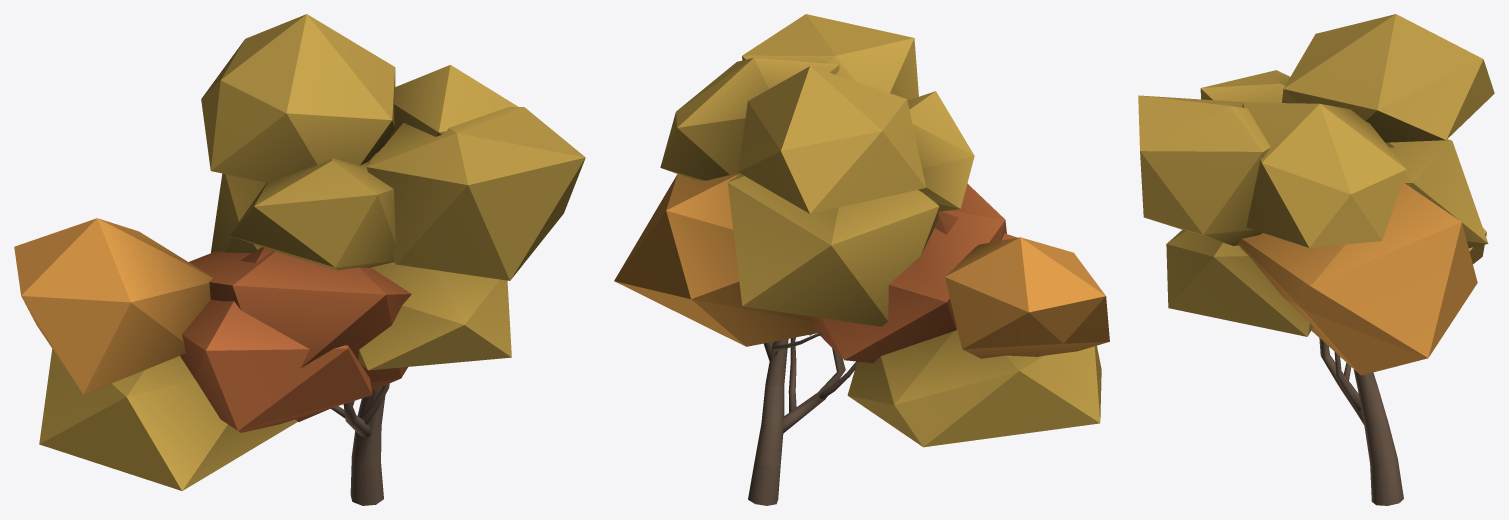
The model's file is obj_deco_matorral.glb.
The picture shows the model from 3 angles, left to right: view 1: azimuth 30°, elevation 25°; view 2: azimuth 150°, elevation 25°; view 3: azimuth 270°, elevation 25°; orthographic projection. The views are drawn at different scales.
Parts seen in each view (by area): view 1: propforge-libre-deco_matorral; view 2: propforge-libre-deco_matorral; view 3: propforge-libre-deco_matorral.
Boxes of the visible parts, <box> form: propforge-libre-deco_matorral: <box>14,14,585,505</box>; propforge-libre-deco_matorral: <box>614,14,1109,505</box>; propforge-libre-deco_matorral: <box>1138,14,1494,505</box>.
Bounding box in the file's own units: 0.6313 × 0.5931 × 0.4144.
